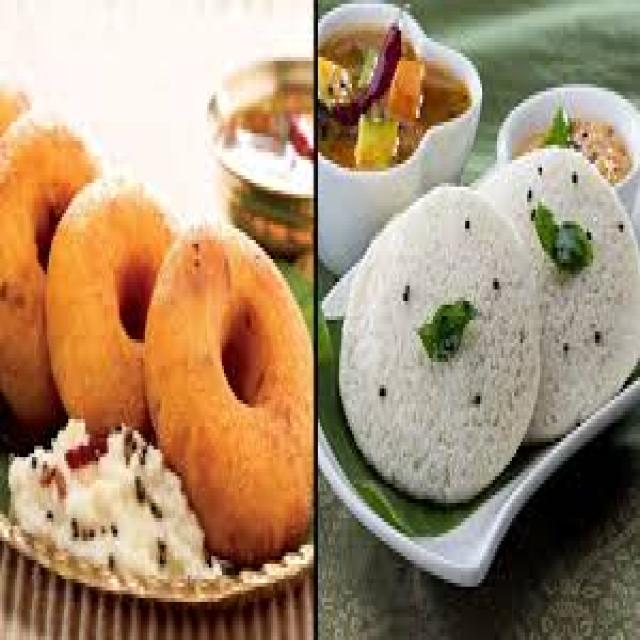IDLI: (337, 181, 541, 509), (474, 140, 638, 444)
MEDU VADA: (140, 208, 314, 564), (45, 165, 183, 431), (0, 86, 105, 428)
